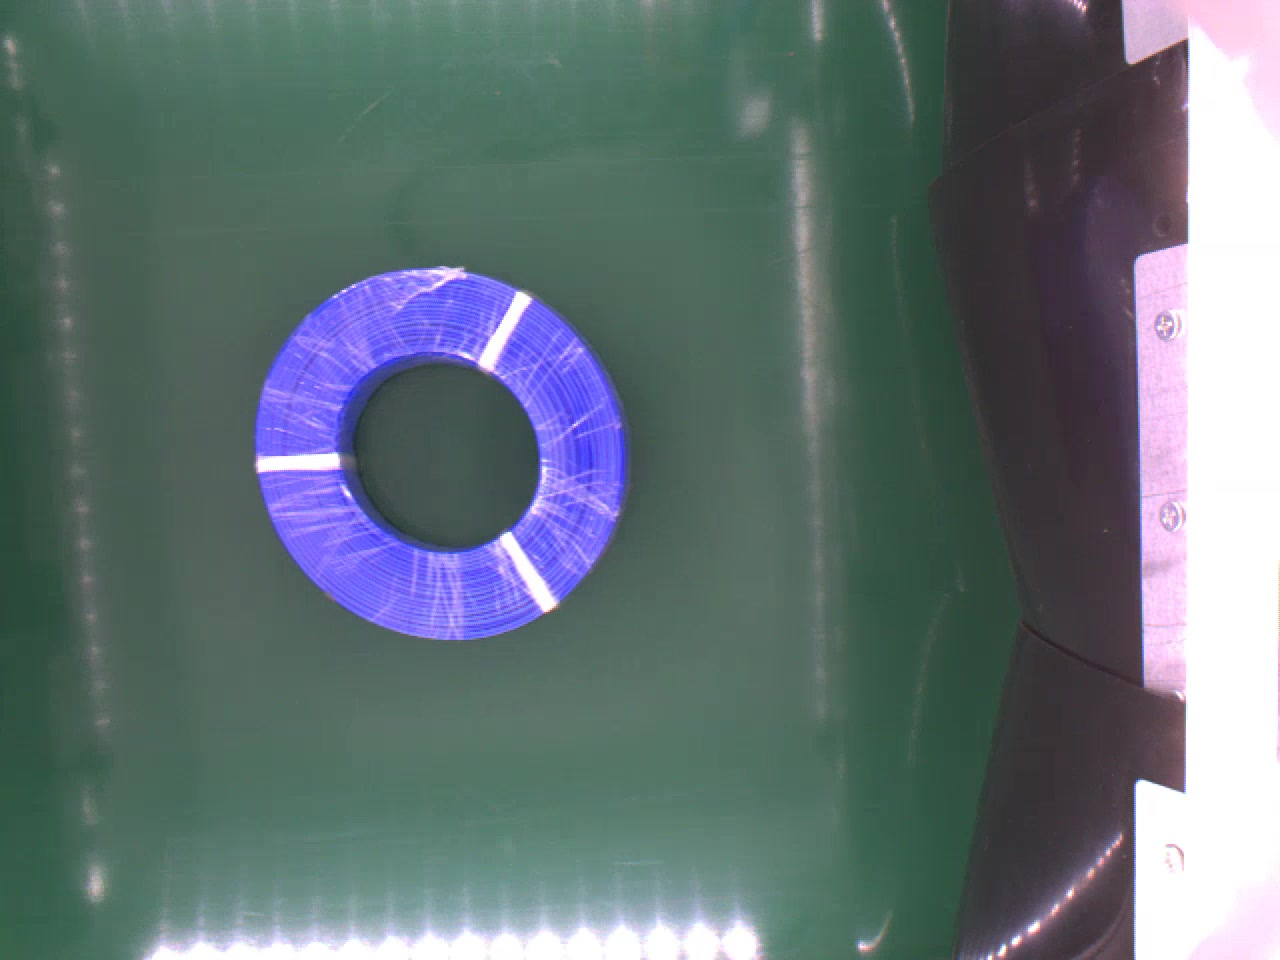blue: (247, 265, 632, 643)
